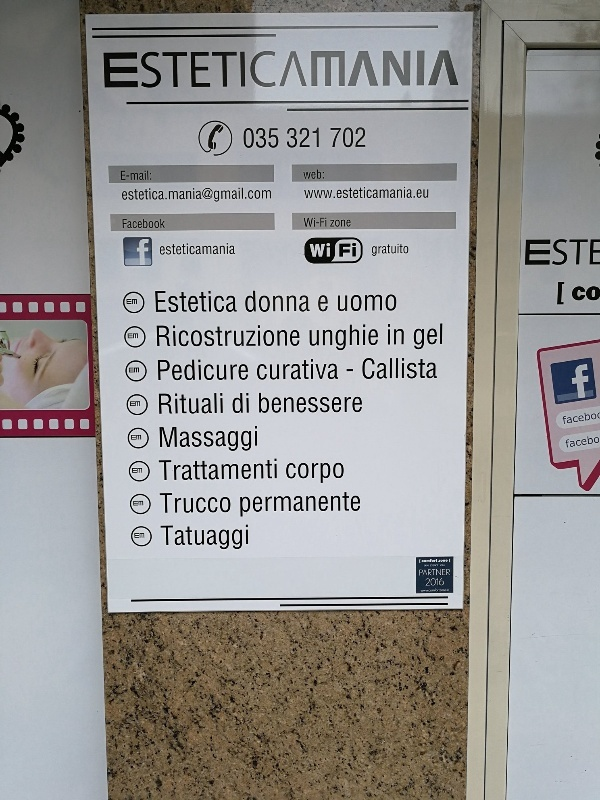text: (577, 361, 592, 405), (113, 51, 128, 90), (129, 51, 144, 90), (145, 51, 160, 90), (161, 51, 176, 90), (177, 51, 192, 90), (193, 51, 208, 90), (209, 51, 224, 90), (225, 51, 240, 90), (241, 51, 256, 90), (257, 51, 272, 90), (273, 51, 288, 90), (289, 51, 304, 90), (305, 51, 320, 90), (321, 51, 336, 90), (337, 51, 352, 90), (353, 51, 368, 90), (369, 51, 384, 90), (385, 51, 400, 90), (401, 51, 416, 90), (417, 51, 432, 90), (433, 51, 448, 90), (529, 235, 544, 269), (545, 235, 560, 269), (561, 235, 576, 269), (577, 235, 592, 269), (161, 522, 176, 553), (177, 522, 192, 553), (193, 522, 208, 553), (209, 522, 224, 553), (225, 522, 240, 553), (161, 423, 176, 454), (177, 423, 192, 454), (193, 423, 208, 454), (209, 423, 224, 454), (225, 423, 240, 454), (241, 423, 256, 454), (417, 321, 432, 352), (321, 322, 336, 352), (337, 322, 352, 352), (353, 322, 368, 352), (449, 51, 460, 90), (241, 492, 256, 520), (257, 492, 272, 520), (273, 492, 288, 520), (289, 492, 304, 520), (305, 492, 320, 520), (321, 492, 336, 520), (337, 492, 352, 520), (273, 390, 288, 418), (289, 390, 304, 418), (305, 390, 320, 418), (321, 390, 336, 418), (337, 390, 352, 418), (257, 288, 272, 316), (273, 288, 288, 316), (289, 288, 304, 316), (369, 355, 384, 383), (385, 355, 400, 383), (401, 355, 416, 383), (417, 355, 432, 383), (257, 124, 272, 151), (273, 124, 288, 151), (289, 124, 304, 151), (305, 124, 320, 151), (321, 124, 336, 151), (337, 124, 352, 151), (161, 358, 176, 385), (177, 358, 192, 385), (193, 358, 208, 385), (209, 358, 224, 385), (225, 358, 240, 385), (257, 357, 272, 384), (273, 357, 288, 384), (289, 357, 304, 384), (305, 357, 320, 384), (321, 357, 336, 384), (258, 390, 272, 418), (161, 290, 176, 316), (177, 290, 192, 316), (193, 290, 208, 316), (209, 290, 224, 316), (161, 492, 176, 517), (177, 492, 192, 517), (193, 492, 208, 517), (209, 492, 224, 517), (161, 457, 176, 482), (177, 457, 192, 482), (193, 457, 208, 482), (209, 457, 224, 482), (225, 457, 240, 482), (241, 457, 256, 482), (257, 457, 272, 482), (161, 391, 176, 416), (177, 391, 192, 416), (193, 391, 208, 416), (209, 391, 224, 416), (289, 461, 304, 486), (305, 461, 320, 486), (321, 461, 336, 486), (161, 325, 176, 350), (177, 325, 192, 350), (193, 325, 208, 350), (209, 325, 224, 350), (225, 325, 240, 350), (241, 325, 256, 350), (257, 325, 272, 350), (273, 325, 288, 350), (337, 291, 352, 315), (353, 291, 368, 315), (369, 291, 384, 315), (308, 322, 320, 352), (103, 51, 112, 90), (433, 321, 444, 352), (225, 290, 238, 316), (244, 288, 256, 316), (388, 323, 400, 351), (369, 322, 380, 352), (244, 124, 256, 151), (353, 124, 365, 151), (577, 284, 592, 305), (385, 291, 398, 315), (289, 325, 301, 350), (577, 407, 592, 426), (129, 186, 144, 205), (145, 186, 160, 205), (161, 186, 176, 205), (177, 186, 192, 205), (193, 186, 208, 205), (209, 186, 224, 205), (225, 186, 240, 205), (241, 186, 256, 205), (257, 186, 272, 205), (353, 390, 363, 418), (241, 522, 250, 553), (562, 407, 576, 426), (570, 361, 576, 405), (577, 433, 592, 450), (136, 238, 144, 268), (305, 185, 320, 201), (321, 185, 336, 201), (337, 185, 352, 201), (353, 185, 368, 201), (369, 185, 384, 201), (385, 185, 400, 201), (401, 185, 416, 201), (593, 235, 600, 269), (161, 242, 176, 257), (177, 242, 192, 257), (193, 242, 208, 257), (209, 242, 224, 257), (385, 242, 400, 257), (241, 391, 250, 416), (337, 461, 346, 486), (353, 492, 361, 520), (338, 242, 352, 258), (241, 358, 249, 385), (232, 391, 240, 416), (321, 293, 330, 315), (361, 355, 368, 383), (129, 169, 144, 182), (305, 168, 320, 181), (305, 216, 320, 229), (371, 242, 384, 257), (417, 185, 429, 201), (565, 433, 576, 450), (129, 218, 144, 230), (145, 218, 160, 230), (309, 242, 320, 258), (225, 492, 232, 517), (305, 288, 311, 316), (225, 242, 236, 257), (321, 242, 331, 258), (145, 238, 150, 268), (593, 284, 600, 305), (433, 355, 438, 383), (524, 235, 528, 269), (433, 569, 448, 578), (593, 407, 600, 426), (121, 186, 128, 205), (155, 290, 160, 316), (337, 219, 351, 228), (273, 457, 278, 482), (155, 325, 160, 350), (129, 367, 144, 375), (401, 242, 409, 257), (593, 433, 600, 450), (419, 569, 432, 578), (401, 323, 405, 351), (433, 578, 445, 587), (571, 284, 576, 305), (133, 500, 144, 509), (130, 401, 144, 408), (132, 468, 144, 476), (413, 321, 416, 352), (121, 169, 128, 182), (145, 169, 152, 182), (131, 435, 144, 442), (321, 216, 328, 229), (129, 298, 138, 308), (129, 333, 139, 342), (157, 358, 160, 385), (337, 357, 340, 384), (433, 588, 449, 593), (122, 218, 128, 230), (134, 533, 144, 540), (317, 293, 320, 315), (353, 242, 357, 258), (345, 368, 352, 377), (257, 423, 259, 454), (420, 588, 432, 593), (421, 558, 432, 563), (426, 578, 432, 587), (330, 219, 336, 228), (321, 168, 325, 181), (438, 559, 448, 564), (158, 457, 160, 482), (158, 391, 160, 416), (286, 461, 288, 486), (161, 218, 165, 230), (159, 423, 160, 454), (433, 558, 438, 563), (159, 492, 160, 517), (424, 565, 432, 568), (440, 564, 448, 567), (433, 564, 439, 568), (126, 298, 128, 308), (449, 569, 451, 578), (353, 368, 355, 377), (303, 185, 304, 201), (303, 168, 304, 181), (303, 216, 304, 229), (127, 333, 128, 342), (430, 564, 432, 568)
